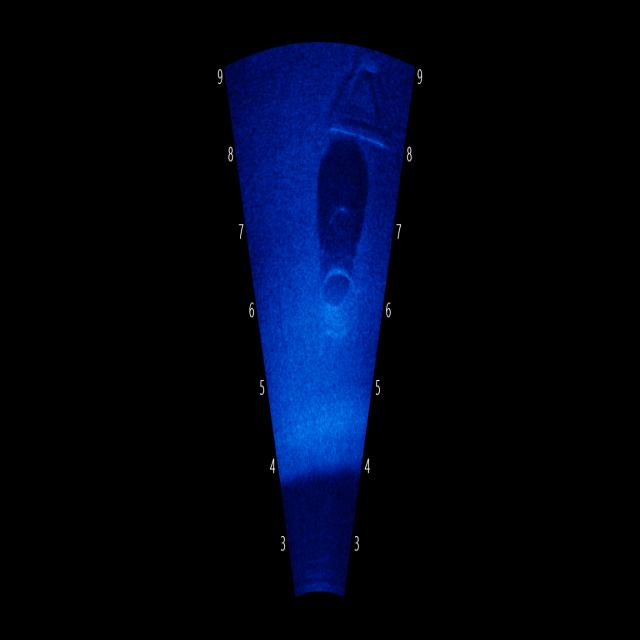circle: (307, 238, 368, 362)
triangle: (302, 53, 397, 160)
